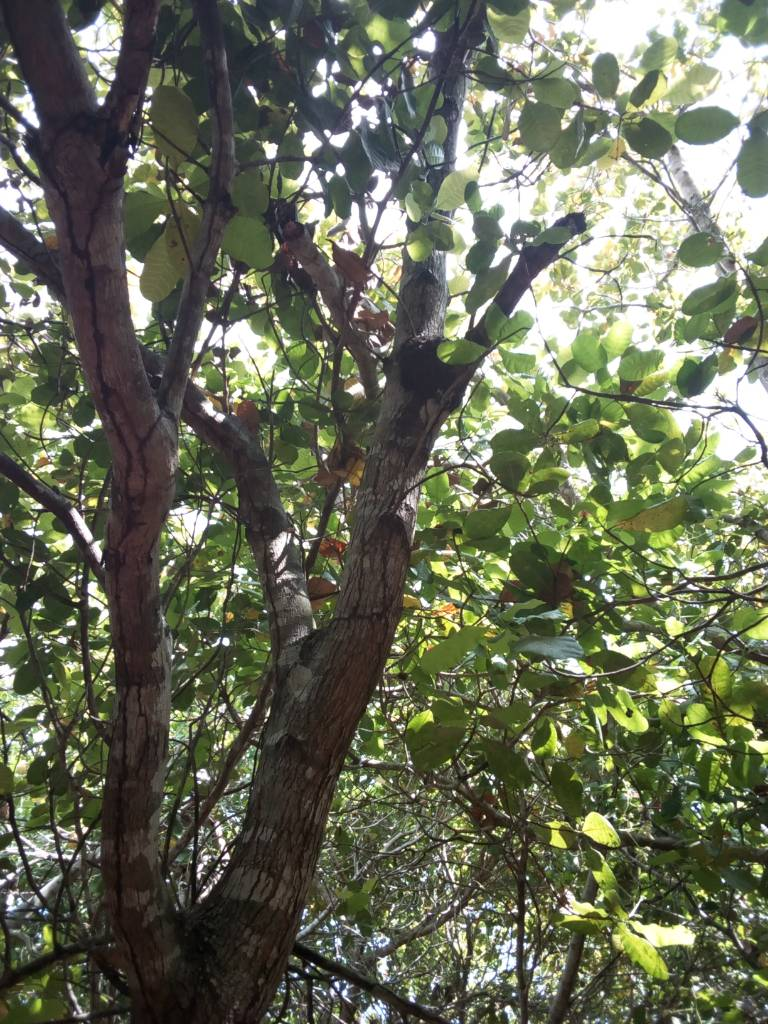Termites: (65, 199, 166, 491), (111, 532, 165, 942)
